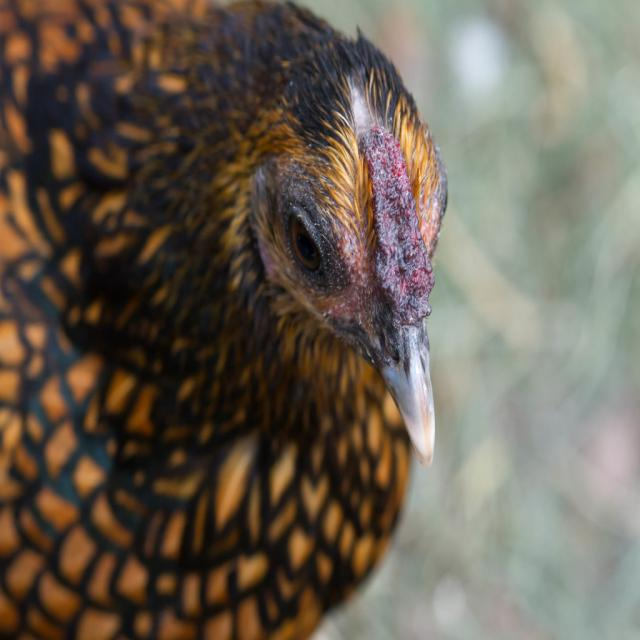Chicken: (0, 0, 448, 639)
